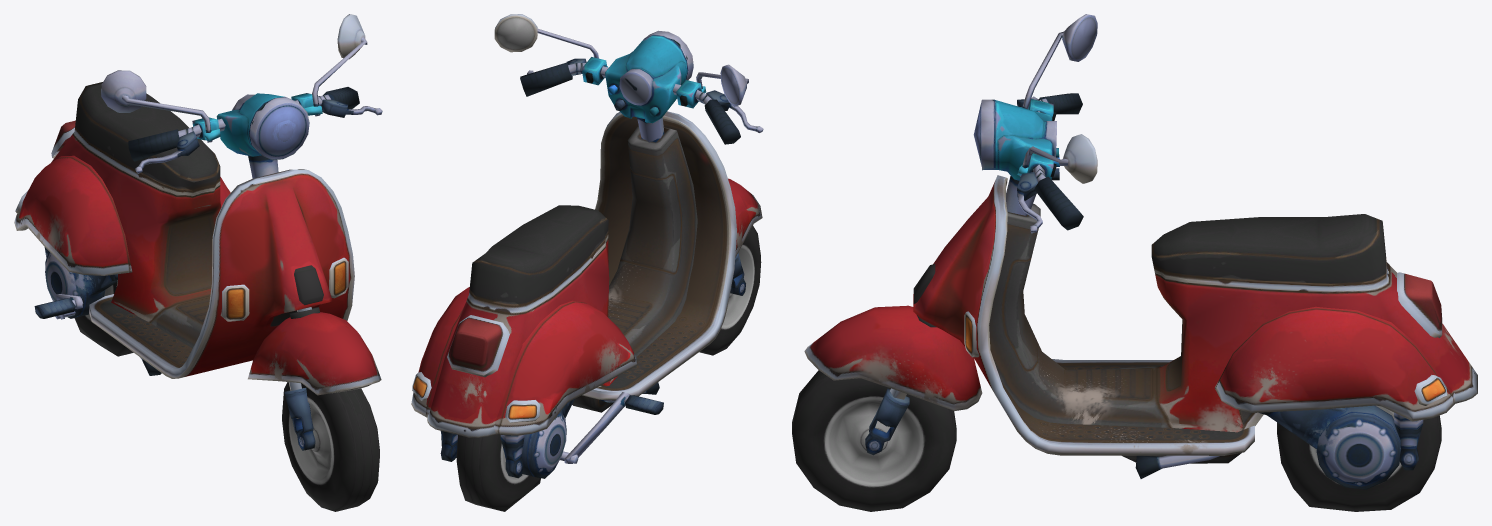
The model's file is scooter_motorcycle.glb.
3 views of the same model, side by side, from view 1: azimuth 30°, elevation 25°; view 2: azimuth 150°, elevation 25°; view 3: azimuth 270°, elevation 25° (orthographic). The views are drawn at different scales.
Parts seen in each view (by area): view 1: Donut_Scooter_Gadget_3_0, TimeframeMainGroup (×8), MorphMainGroup; view 2: Donut_Scooter_Gadget_3_0, TimeframeMainGroup (×8), MorphMainGroup (×2); view 3: Donut_Scooter_Gadget_3_0, TimeframeMainGroup (×8), MorphMainGroup (×2).
Part boxes in pixels (left/top/right/bottom): Donut_Scooter_Gadget_3_0: left=14, top=82, right=354, bottom=418; TimeframeMainGroup (×8): left=34, top=14, right=382, bottom=511; MorphMainGroup: left=74, top=282, right=133, bottom=356; Donut_Scooter_Gadget_3_0: left=411, top=111, right=736, bottom=437; TimeframeMainGroup (×8): left=441, top=14, right=763, bottom=478; MorphMainGroup (×2): left=440, top=431, right=540, bottom=511; Donut_Scooter_Gadget_3_0: left=880, top=175, right=1477, bottom=463; TimeframeMainGroup (×8): left=792, top=14, right=1400, bottom=511; MorphMainGroup (×2): left=1277, top=405, right=1441, bottom=511.
Bounding box in the file's own units: 82.92 × 119 × 172.
12 materials, 12 textured.
